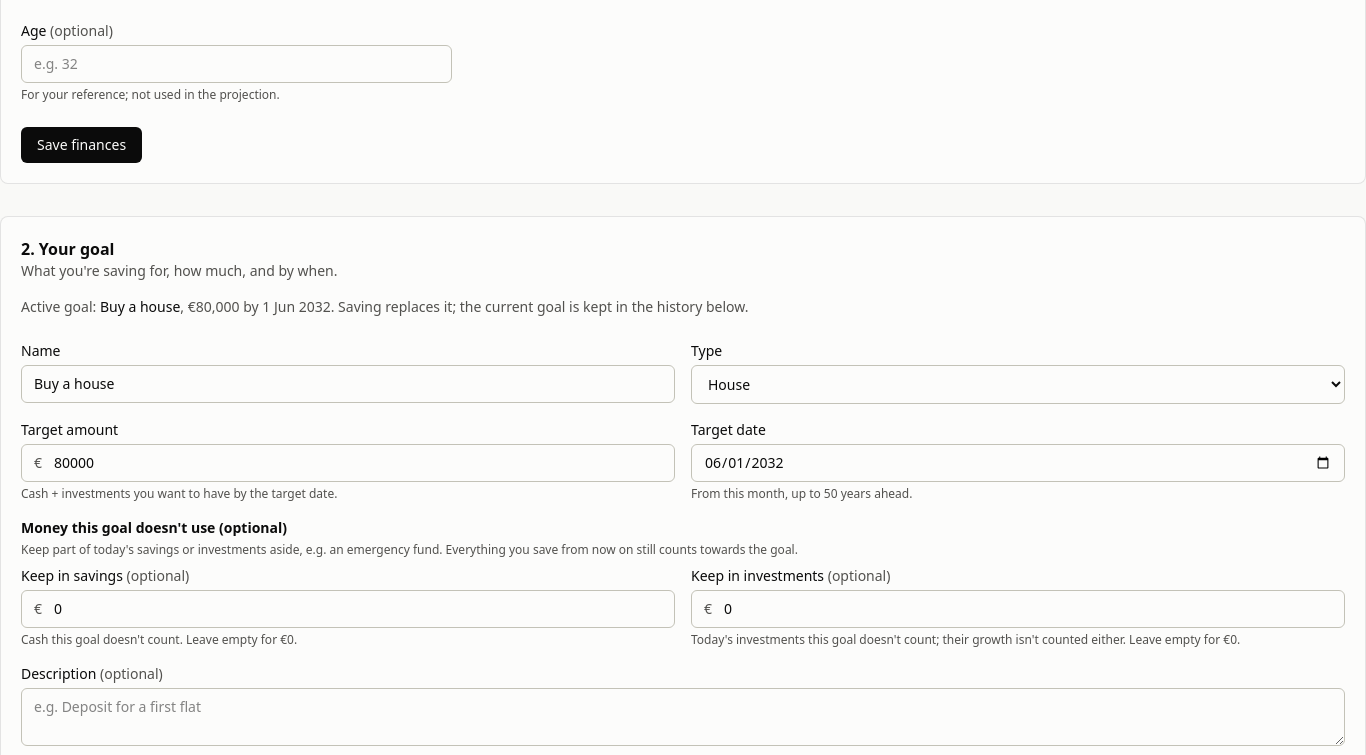
Test: plan page › creates a new goal from the prefilled active goal
(page scrolled)
Replace the text in the field with id "goal-name" with "Buy a car": [348, 384] box [21,365,675,403]
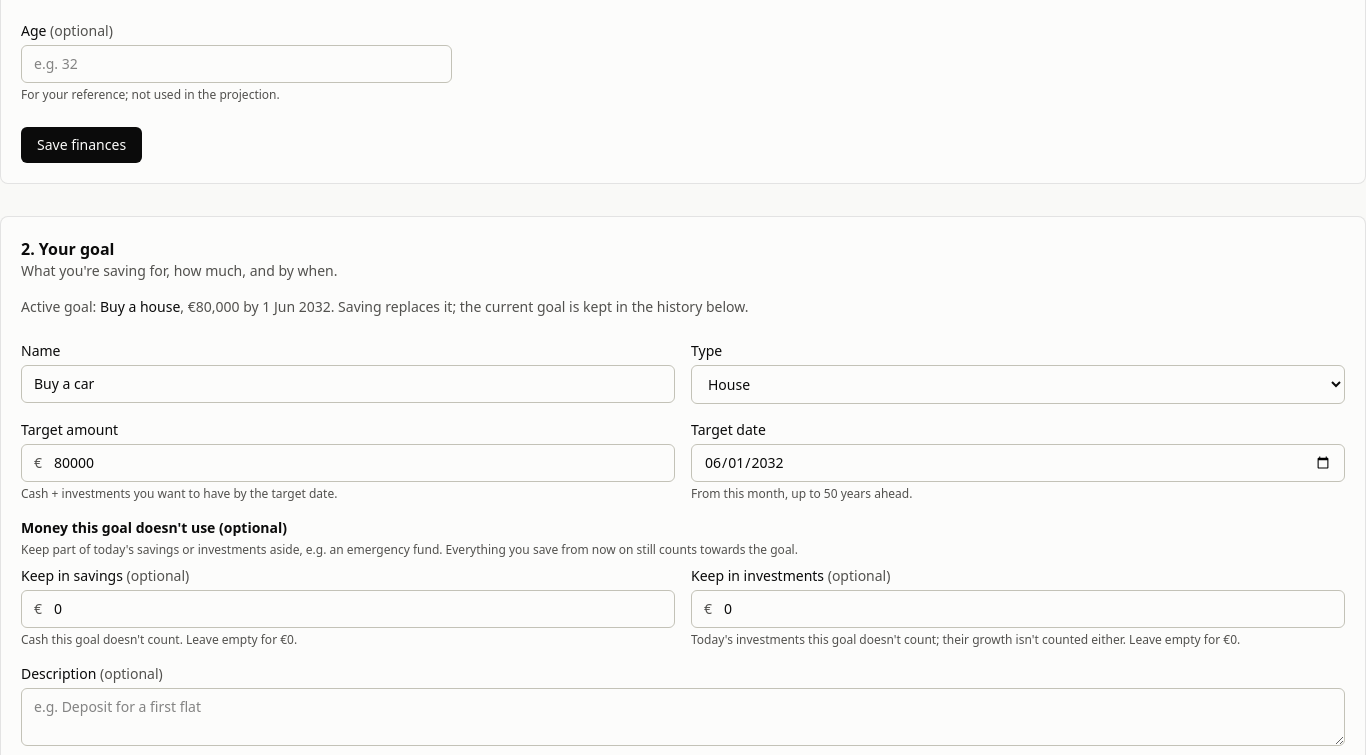
Replace the text in the number field with id "goal-target_amount" with "15000": [358, 463] box [42,445,674,481]
(page scrolled)
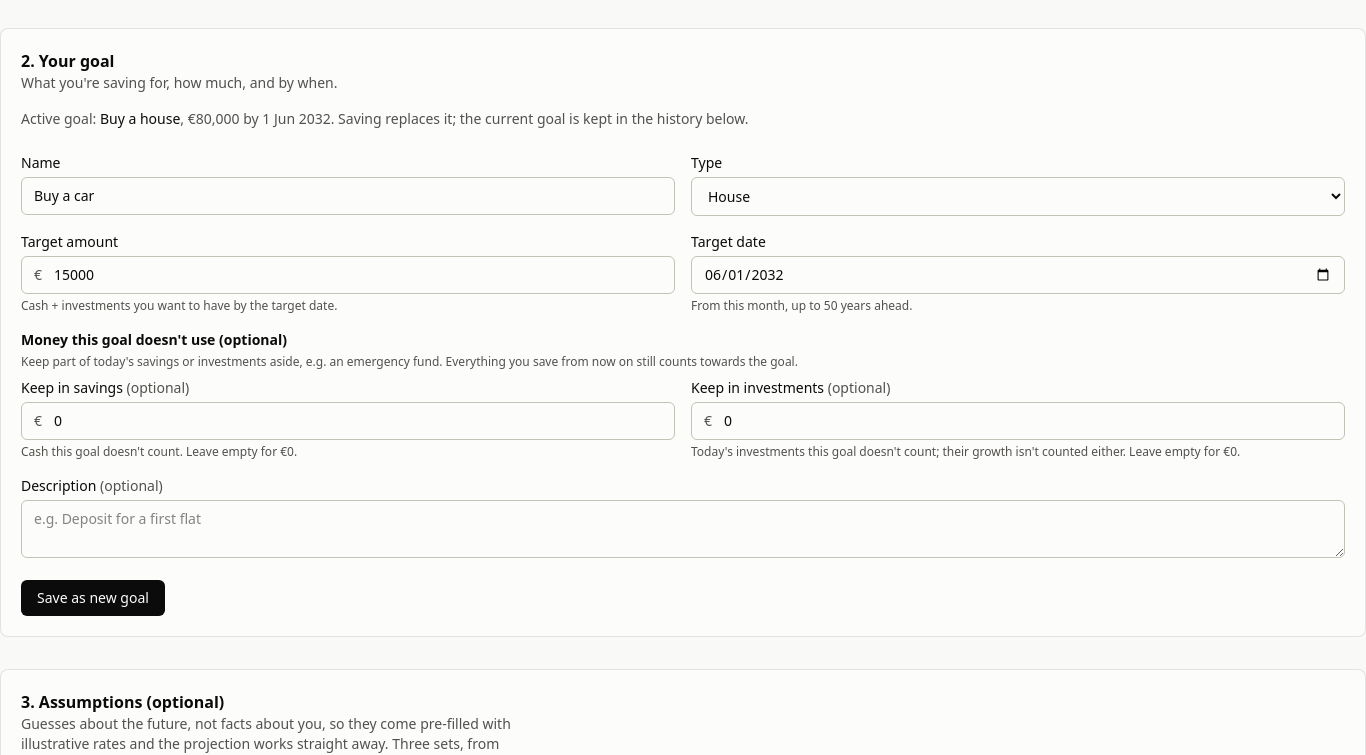
Submit the form, box [21,153,1345,616]
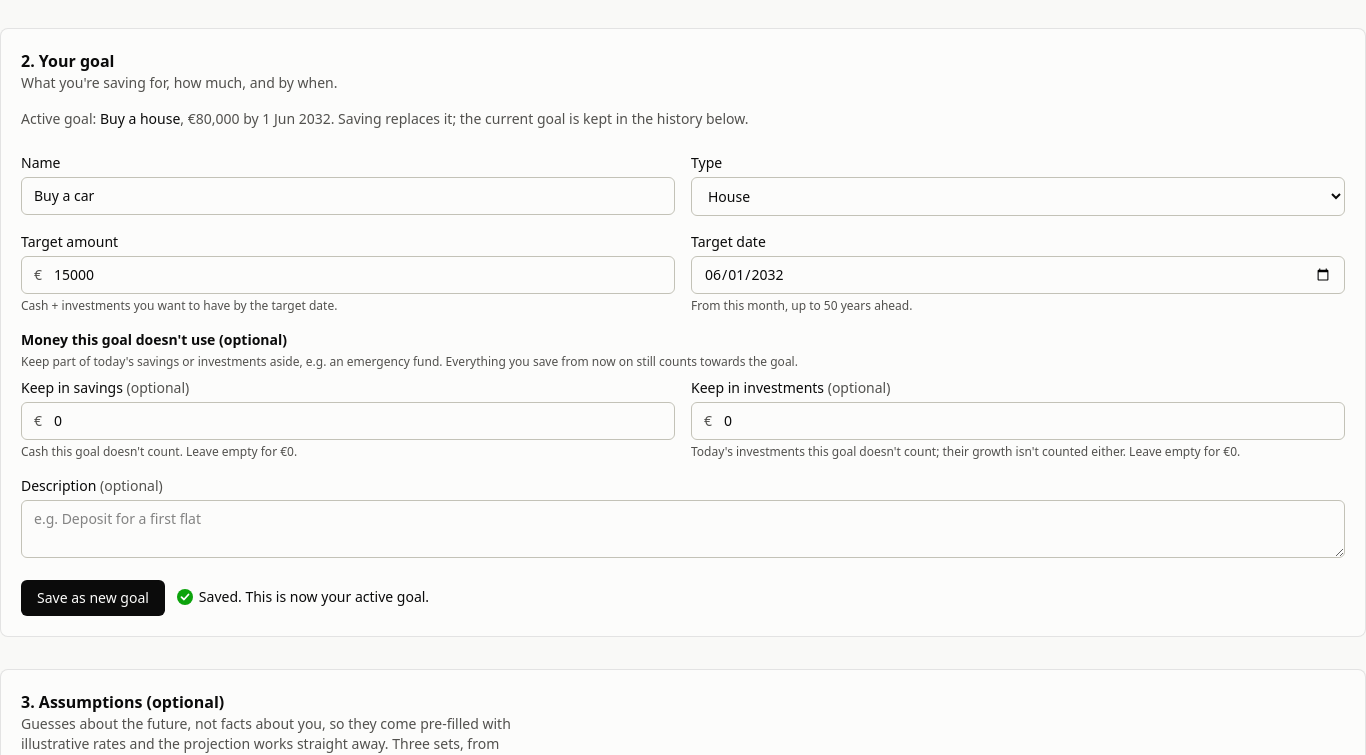
Result: the text "Saved. This is now your active goal." is shown at [177,586,429,606]
